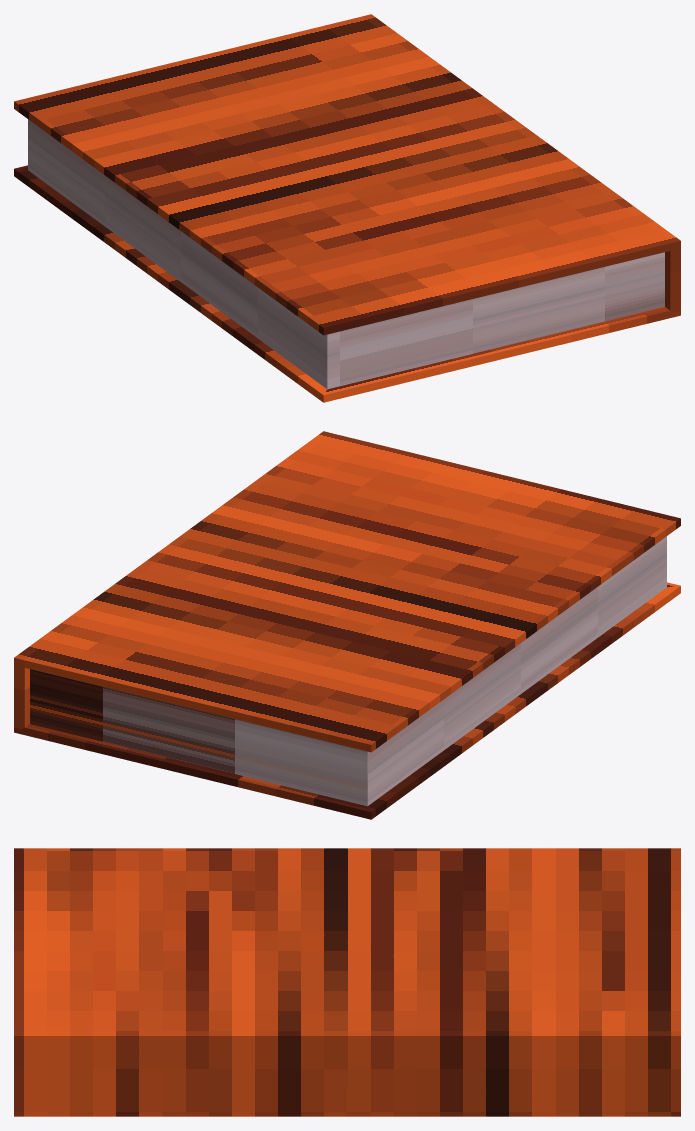
Rendered from OrangeBook.fbx.
3 views of the same model, one above another, from view 1: azimuth 30°, elevation 25°; view 2: azimuth 150°, elevation 25°; view 3: azimuth 270°, elevation 25° (orthographic). The views are drawn at different scales.
Visible parts, largest first — view 1: FinishedBook1; view 2: FinishedBook1; view 3: FinishedBook1.
Boxes of the visible parts, x1=… form: FinishedBook1: x1=14, y1=14, x2=680, y2=402; FinishedBook1: x1=14, y1=431, x2=680, y2=819; FinishedBook1: x1=14, y1=848, x2=680, y2=1116.
Size of the model in its own units: 200 by 40 by 300.
